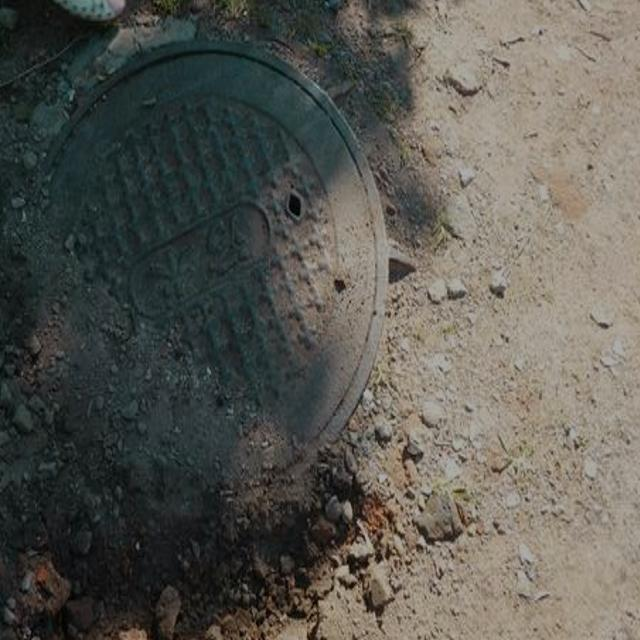circle: (0, 25, 481, 579)
